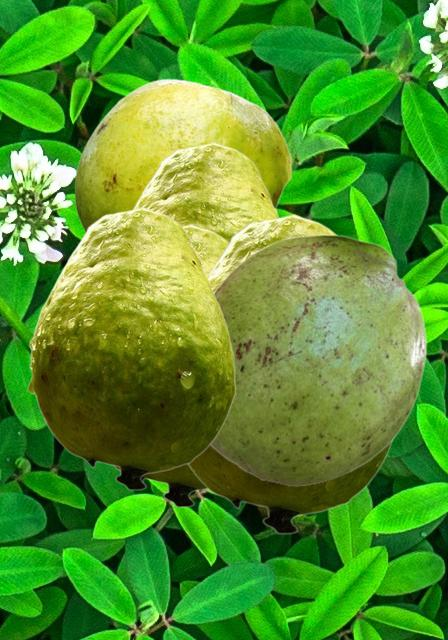guava: (187, 214, 393, 534), (27, 207, 235, 490), (210, 234, 426, 485), (74, 78, 291, 232), (114, 224, 228, 507), (132, 142, 279, 239)
